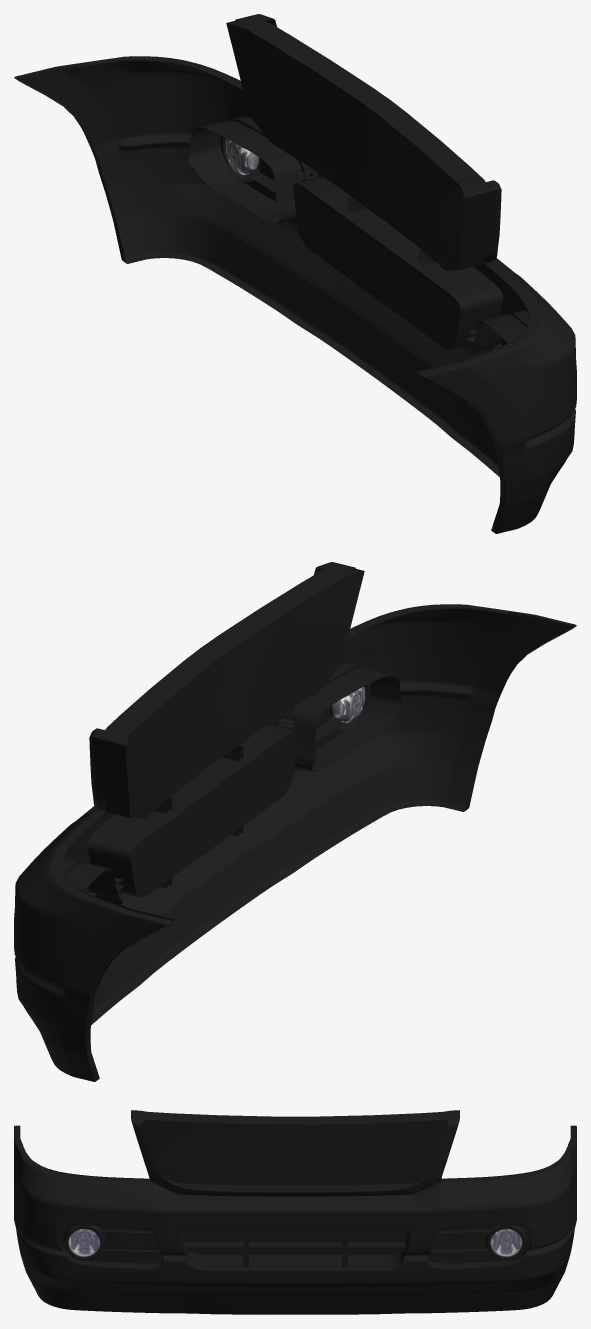
3 renders of one model, top to bottom at view 1: azimuth 30°, elevation 25°; view 2: azimuth 150°, elevation 25°; view 3: azimuth 270°, elevation 25°, orthographic. The views are drawn at different scales.
Visible parts, largest first — view 1: P845_021G_C_2_D_P845_021G_C, P845_021G_C_P845_021G_C_1_D, P845_021G_C_2_D_P845_021G_C_E, P845_021G_C_P845_021G_C_6_D, P845_021G_C_P845_021G_C_3_N; view 2: P845_021G_C_2_D_P845_021G_C, P845_021G_C_P845_021G_C_1_D, P845_021G_C_2_D_P845_021G_C_E, P845_021G_C_P845_021G_C_6_D, P845_021G_C_P845_021G_C_5_N; view 3: P845_021G_C_2_D_P845_021G_C, P845_021G_C_P845_021G_C_1_D, P845_021G_C_2_D_P845_021G_C_E, P845_021G_C_P845_021G_C_6_D, P845_021G_C_P845_021G_C_6_D_E, P845_021G_C_P845_021G_C_3_N, P845_021G_C_P845_021G_C_5_N, P845_021G_C_P845_021G_C_4_DTaSI, P845_021G_C_P845_021G_C_7_DTaSI.
Boxes of the visible parts, left/top/right/bottom form: P845_021G_C_2_D_P845_021G_C: left=14, top=14, right=576, bottom=533; P845_021G_C_P845_021G_C_1_D: left=226, top=23, right=465, bottom=349; P845_021G_C_2_D_P845_021G_C_E: left=14, top=57, right=537, bottom=533; P845_021G_C_P845_021G_C_6_D: left=220, top=118, right=527, bottom=349; P845_021G_C_P845_021G_C_3_N: left=225, top=138, right=258, bottom=174; P845_021G_C_2_D_P845_021G_C: left=14, top=562, right=576, bottom=1081; P845_021G_C_P845_021G_C_1_D: left=125, top=571, right=364, bottom=897; P845_021G_C_2_D_P845_021G_C_E: left=53, top=605, right=576, bottom=1081; P845_021G_C_P845_021G_C_6_D: left=63, top=666, right=370, bottom=897; P845_021G_C_P845_021G_C_5_N: left=332, top=686, right=365, bottom=722; P845_021G_C_2_D_P845_021G_C: left=14, top=1110, right=576, bottom=1314; P845_021G_C_P845_021G_C_1_D: left=141, top=1119, right=449, bottom=1254; P845_021G_C_2_D_P845_021G_C_E: left=14, top=1125, right=576, bottom=1269; P845_021G_C_P845_021G_C_6_D: left=61, top=1225, right=529, bottom=1263; P845_021G_C_P845_021G_C_6_D_E: left=63, top=1226, right=527, bottom=1267; P845_021G_C_P845_021G_C_3_N: left=490, top=1228, right=522, bottom=1256; P845_021G_C_P845_021G_C_5_N: left=68, top=1228, right=100, bottom=1256; P845_021G_C_P845_021G_C_4_DTaSI: left=69, top=1229, right=99, bottom=1256; P845_021G_C_P845_021G_C_7_DTaSI: left=491, top=1229, right=521, bottom=1256.
Bounding box in the file's own units: 61.55 × 78.99 × 209.
